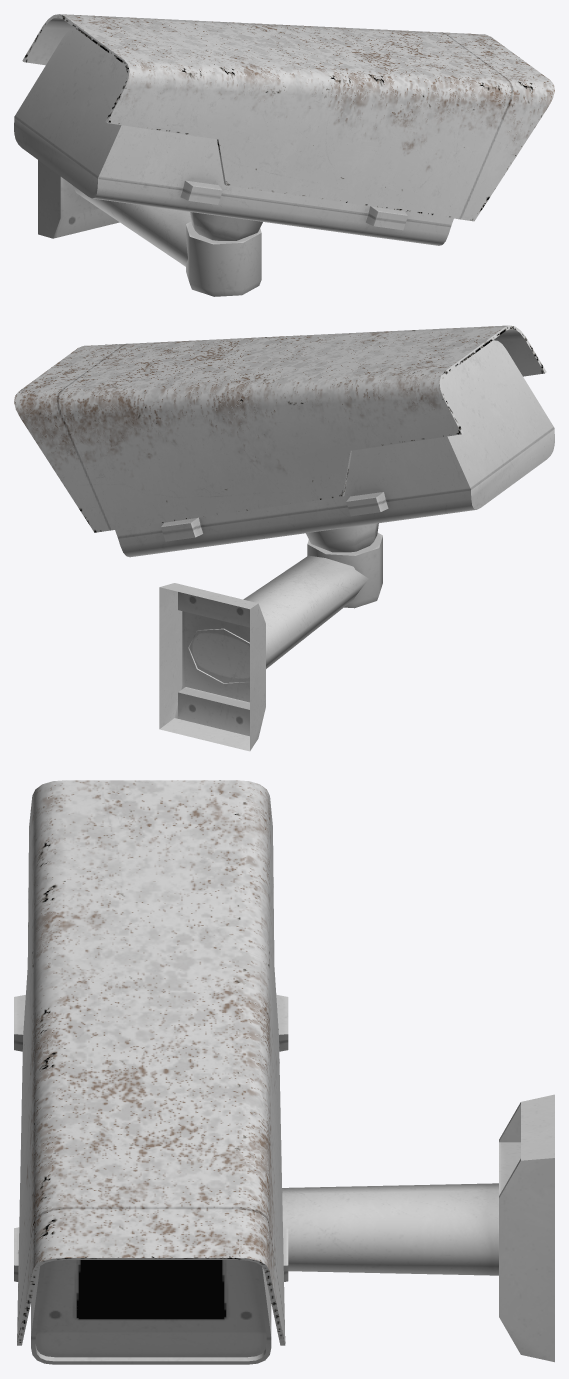
Rendered from CCTV.FBX.
3 renders of one model, top to bottom at view 1: azimuth 30°, elevation 25°; view 2: azimuth 150°, elevation 25°; view 3: azimuth 270°, elevation 25°, orthographic. The views are drawn at different scales.
Parts seen in each view (by area): view 1: CCTV_Cover, Cam, CCTV; view 2: CCTV_Cover, Cam, CCTV; view 3: CCTV_Cover, CCTV, Cam.
Part boxes in pixels (box(x1,y1,x2,y2)): CCTV_Cover: box(22, 14, 554, 221); Cam: box(14, 29, 453, 245); CCTV: box(38, 160, 261, 296); CCTV_Cover: box(14, 325, 546, 532); Cam: box(115, 340, 554, 557); CCTV: box(159, 533, 382, 751); CCTV_Cover: box(17, 780, 285, 1345); CCTV: box(282, 1094, 554, 1362); Cam: box(14, 994, 288, 1364).
Bounding box in the file's own units: 16.18 × 10.63 × 11.34.
